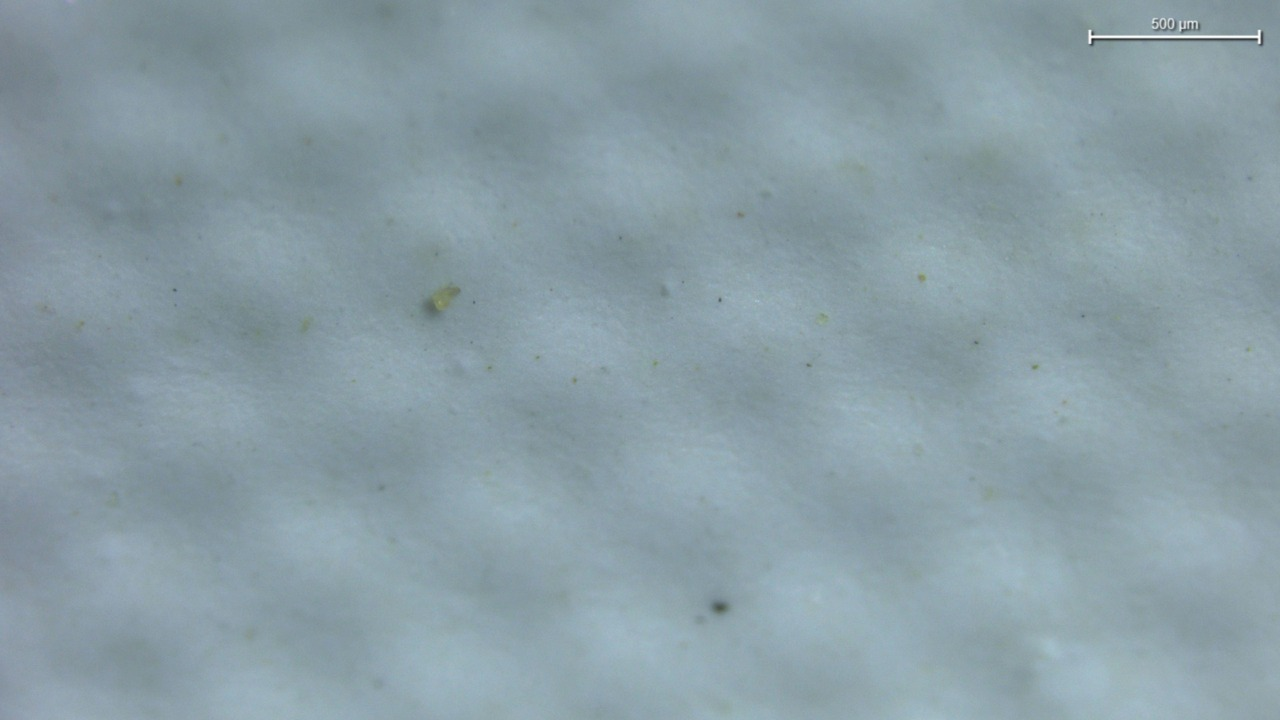microplastic_fragment: (430, 286, 460, 311)
